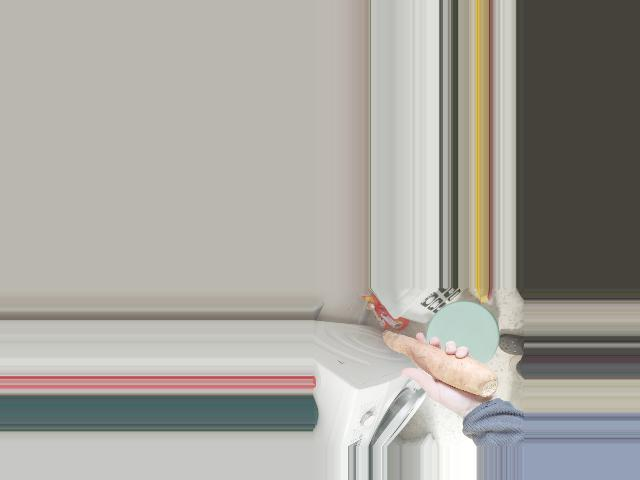sweet_potato: (374, 325, 500, 400)
